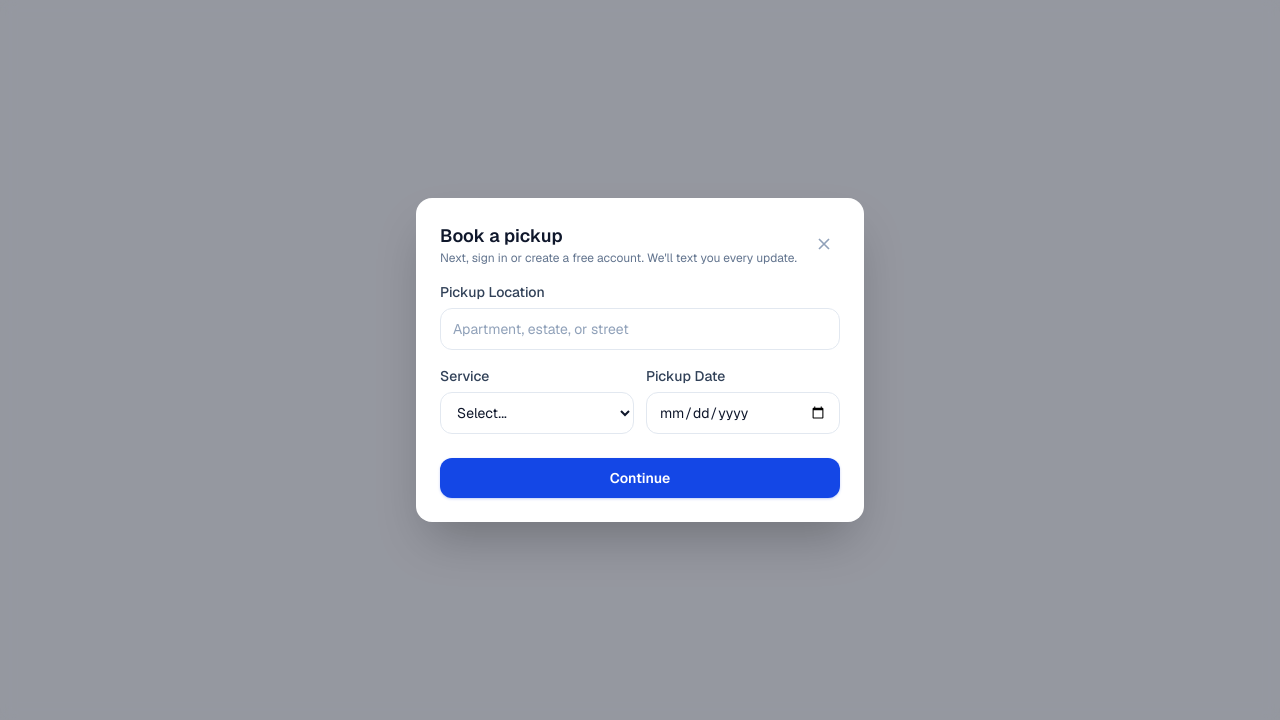
Scenario: BookingModal › shows validation errors only after submitting
The image size is (1280, 720).
Expected: the text "Pickup location is required." is not shown
Click the button "Continue": (640, 478) [440,458,840,498]
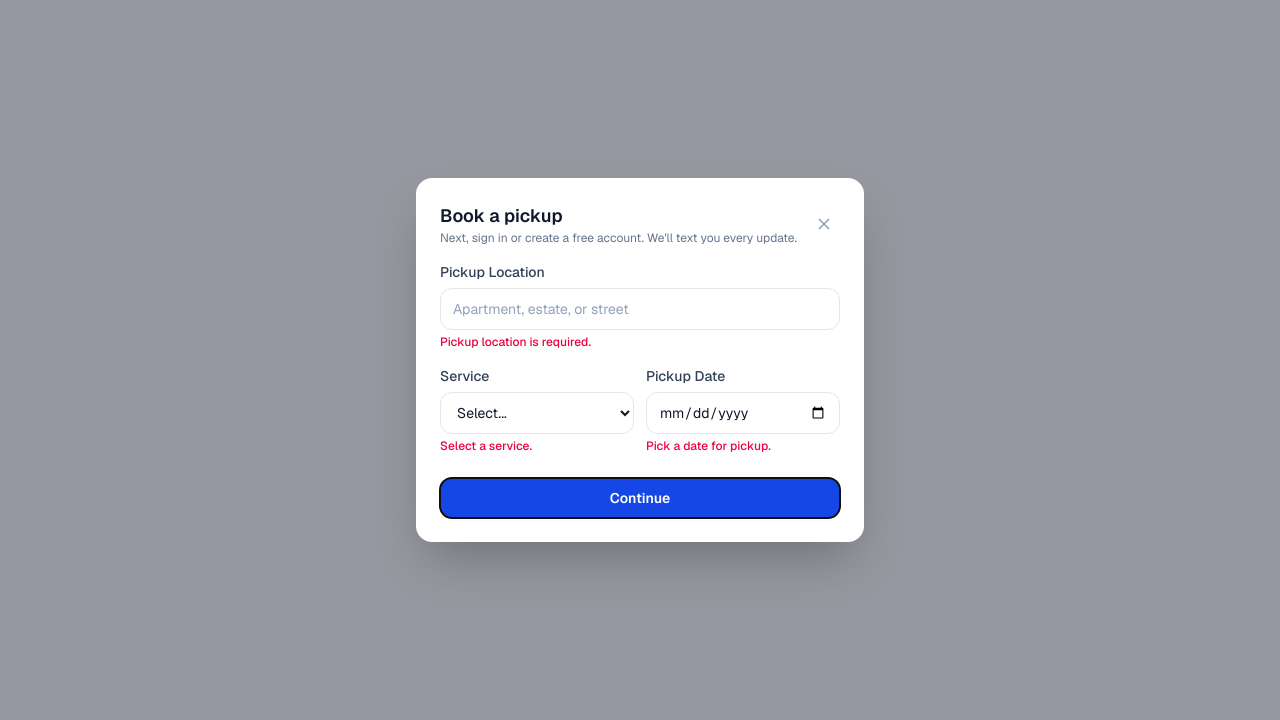
Expected: the text "Pickup location is required." is shown, [440,334,591,350]
Expected: the text "Select a service." is shown, [440,438,532,454]
Expected: the text "Pick a date for pickup." is shown, [646,438,771,454]
